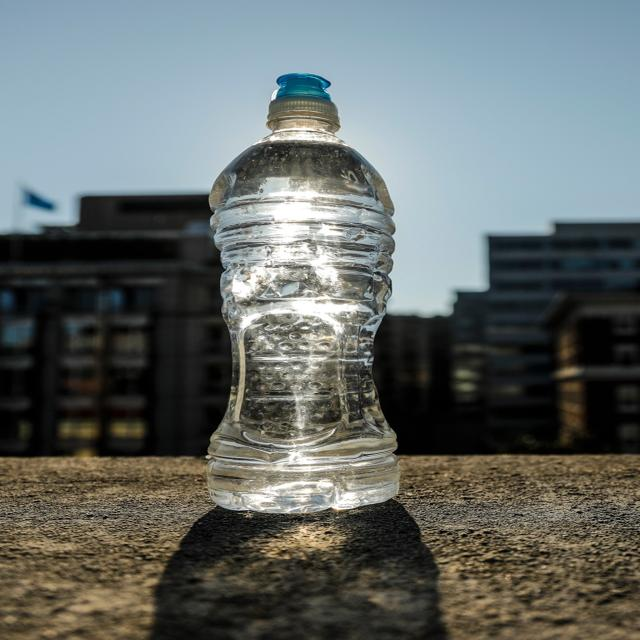bottle: (170, 60, 448, 516)
